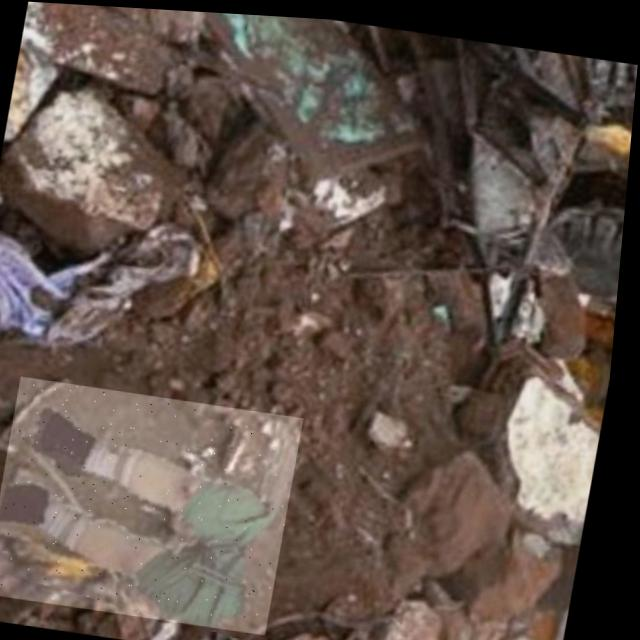Person in Rubble: (0, 375, 311, 632)
